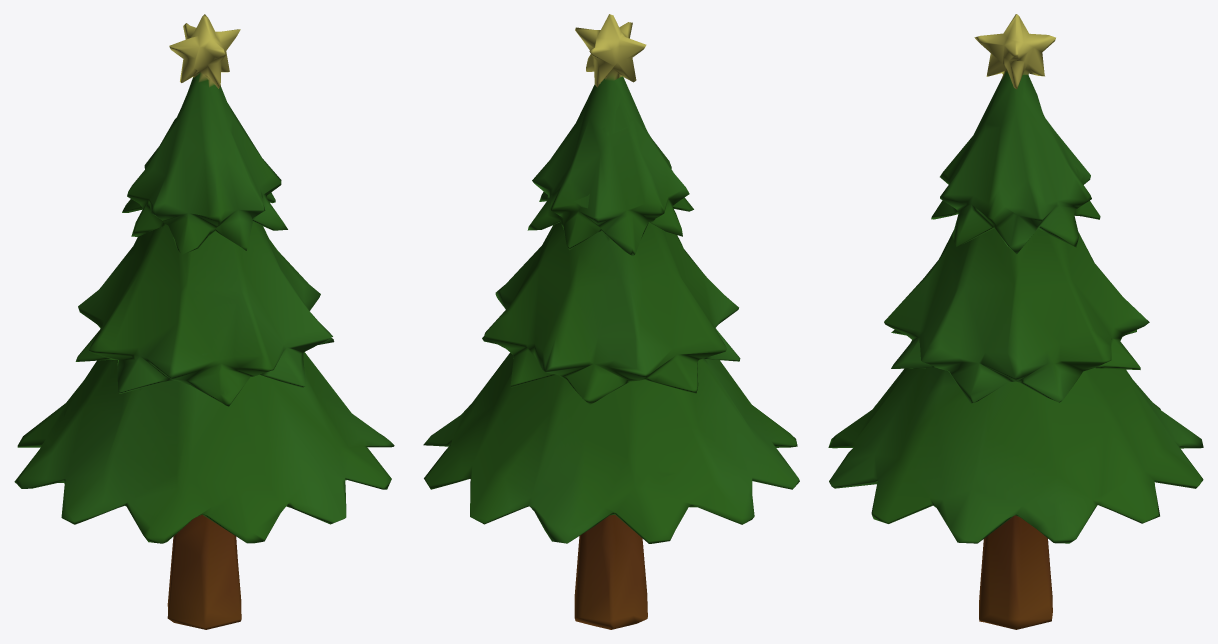
Rendered from gen3d-christmas-tree-lod0.glb.
3 views of the same model, side by side, from view 1: azimuth 30°, elevation 25°; view 2: azimuth 150°, elevation 25°; view 3: azimuth 270°, elevation 25° (orthographic).
Parts seen in each view (by area): view 1: part_0; view 2: part_0; view 3: part_0.
Part boxes in pixels (x1,y1,x2,y2): part_0: [14, 14, 394, 629]; part_0: [423, 14, 799, 629]; part_0: [828, 14, 1203, 629].
Bounding box in the file's own units: 0.5668 × 0.9978 × 0.5663.
